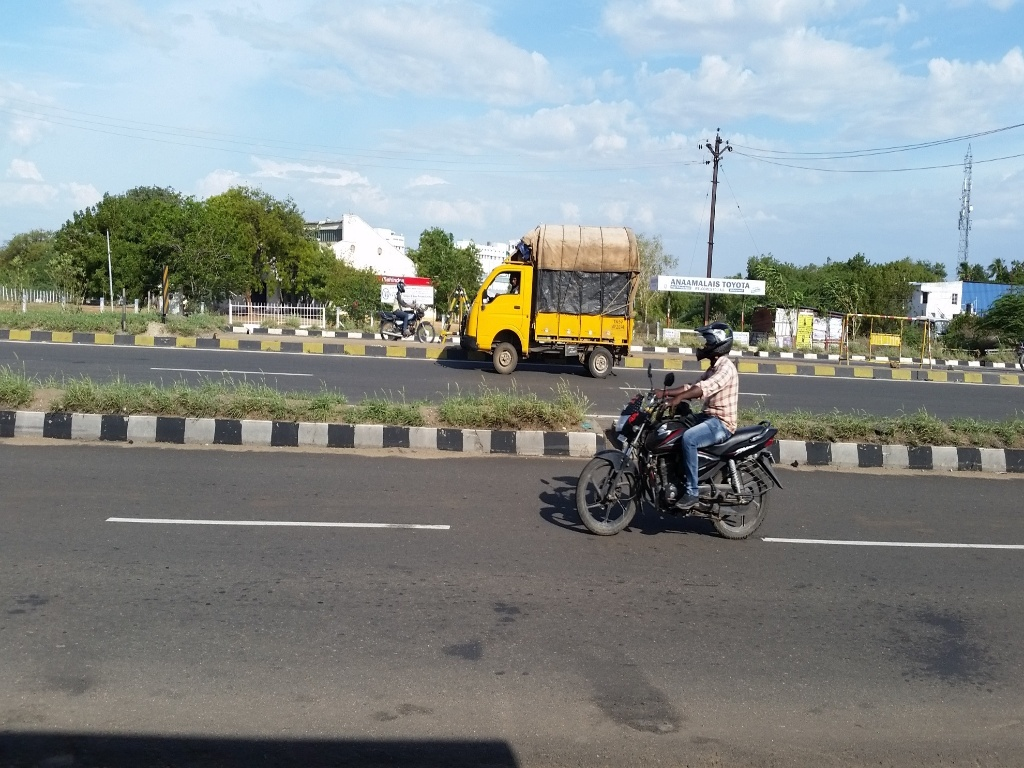biker: (559, 303, 801, 553), (367, 261, 448, 350)
helmet: (690, 315, 741, 371), (391, 273, 412, 300)
